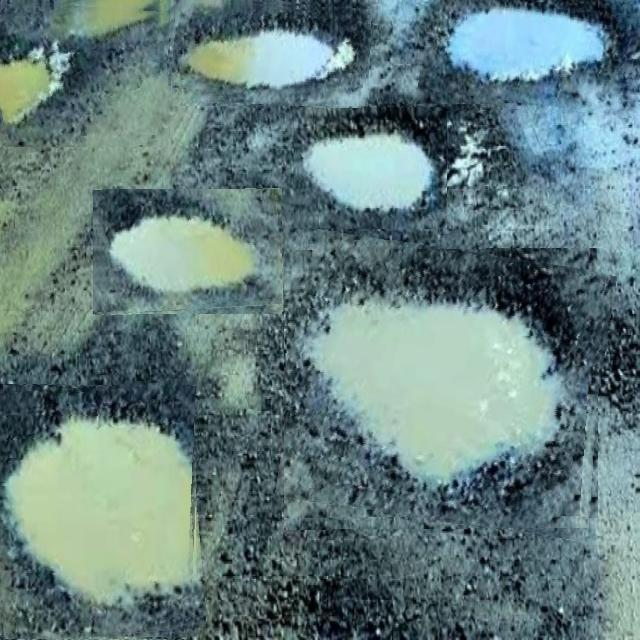Pothole: (284, 240, 608, 530), (0, 381, 201, 639), (0, 0, 175, 147), (420, 0, 640, 111), (93, 189, 282, 315), (172, 0, 372, 106), (294, 108, 447, 229)
